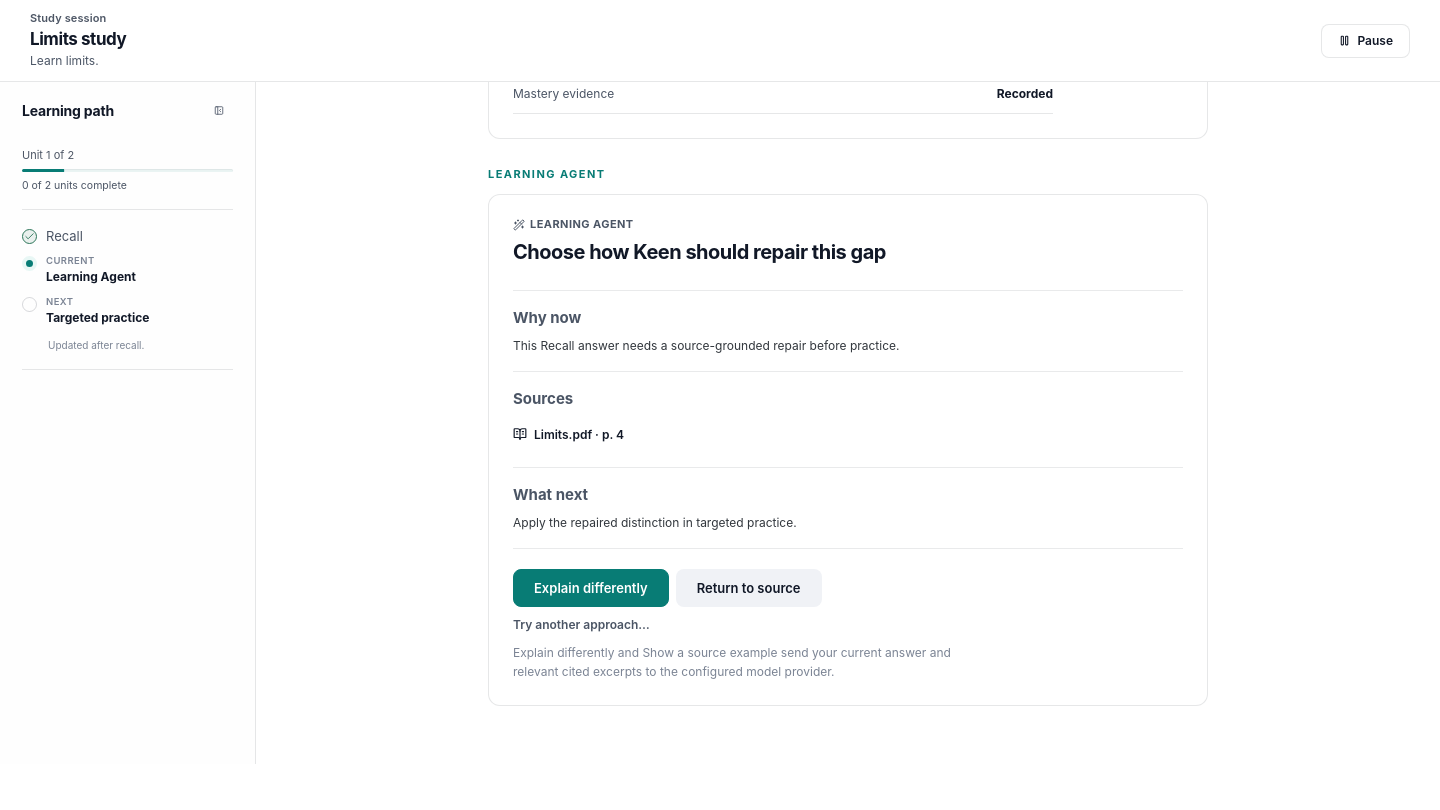
Test: Deep Learn active recall › lets an eligible learner return to the persisted source review without first failing the Agent
(page scrolled)
Expected: the heading "Choose how Keen should repair this gap" is shown, [513,240,886,264]
Click the button "Return to source".
click(749, 588)  # box [676,569,822,607]
(page scrolled)
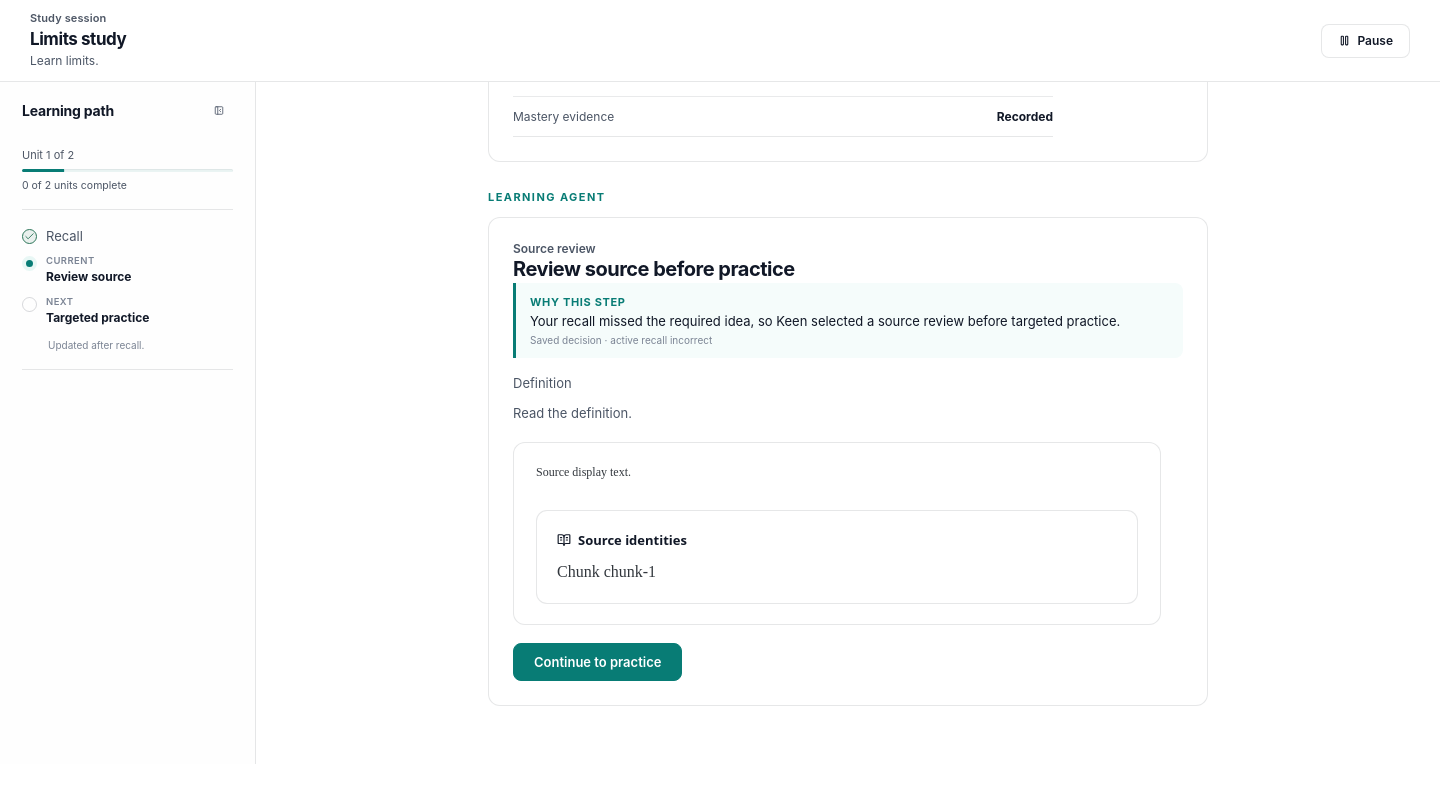
Expected: the heading "Review source before practice" is shown, [513,256,795,280]
Expected: the text "Source display text." is shown, [536,465,631,479]
Expected: the heading "Choose how Keen should repair this gap" is gone
